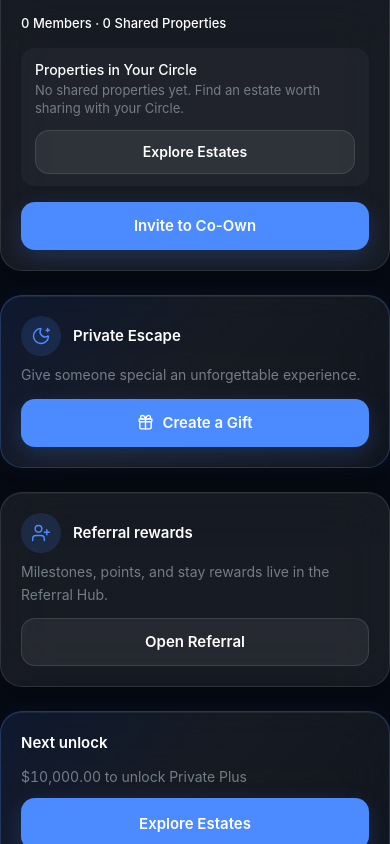
Club page › escape section opens the gift sheet with occasions
(page scrolled)
Expected: the element with test id "club-escape" shows "Give someone special an unforgettable experience.", [21,366,361,383]
Step 1. Click the button with test id "club-escape-cta" → (195, 423), box [21,399,369,447]
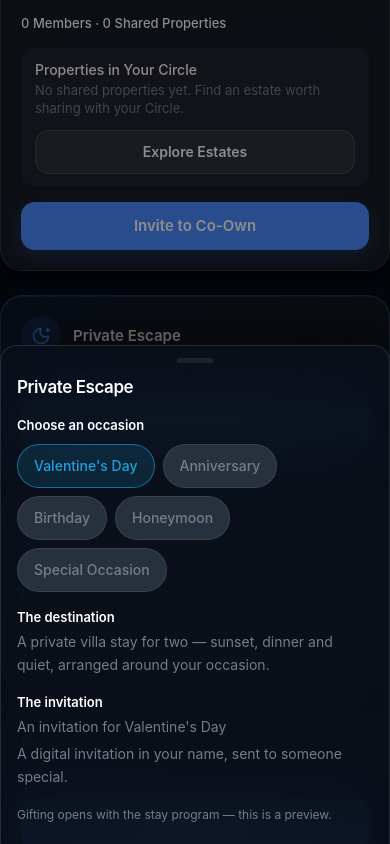
Now the dialog with test id "sheet-panel" shows "Choose an occasion", box [17,417,144,433]
Now the dialog with test id "sheet-panel" shows "Valentine's Day", box [17,444,154,488]
Now the dialog with test id "sheet-panel" shows "The destination", box [17,609,115,625]
